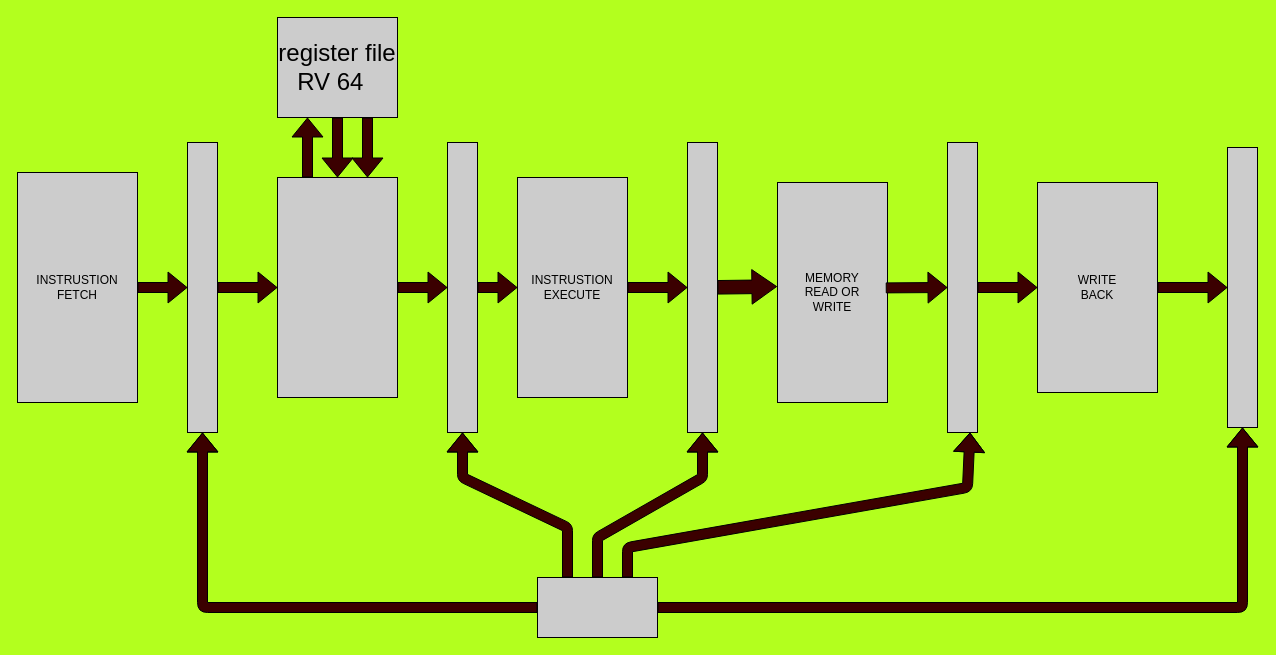
Some shapes in this 1276 by 655 pixel diagram are drawn without their labels. The shapes that lost their labels are listed below. From the top down, each one's centre as x and y in pixels, then its label:
the point at 337,287: INSTRUSTION DECODE
the point at 597,607: 5 stage pipeline
